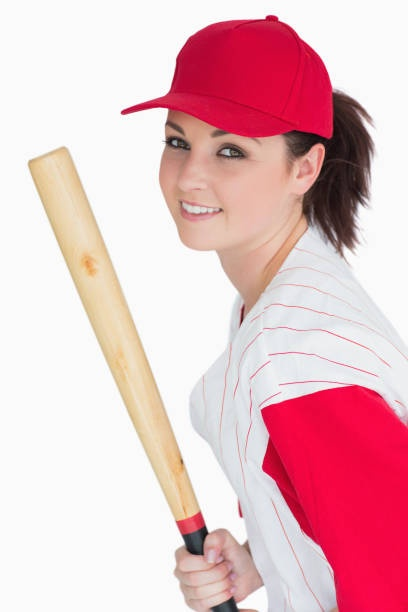bita: (29, 146, 204, 568)
